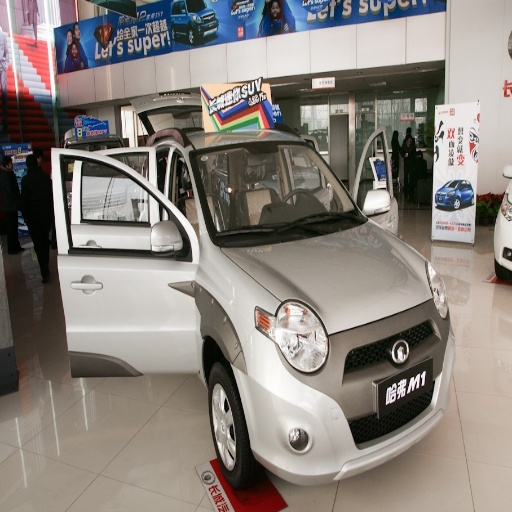front_bumper: (235, 301, 446, 485)
front_right_door: (91, 169, 196, 400)
front_right_light: (254, 301, 326, 374)
hood: (221, 224, 432, 332)
